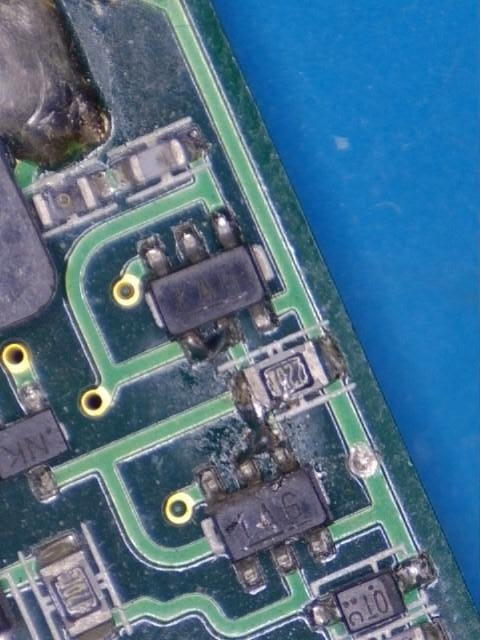pcb_defect: (232, 366, 300, 489), (179, 313, 246, 365)
